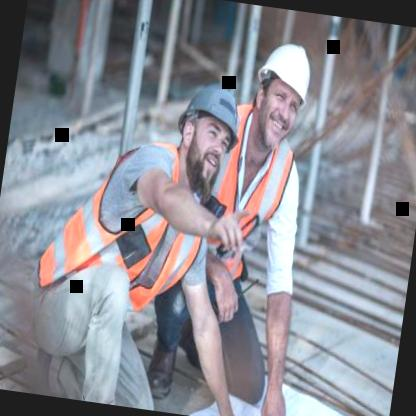helmet: (242, 27, 324, 153), (166, 72, 249, 190)
